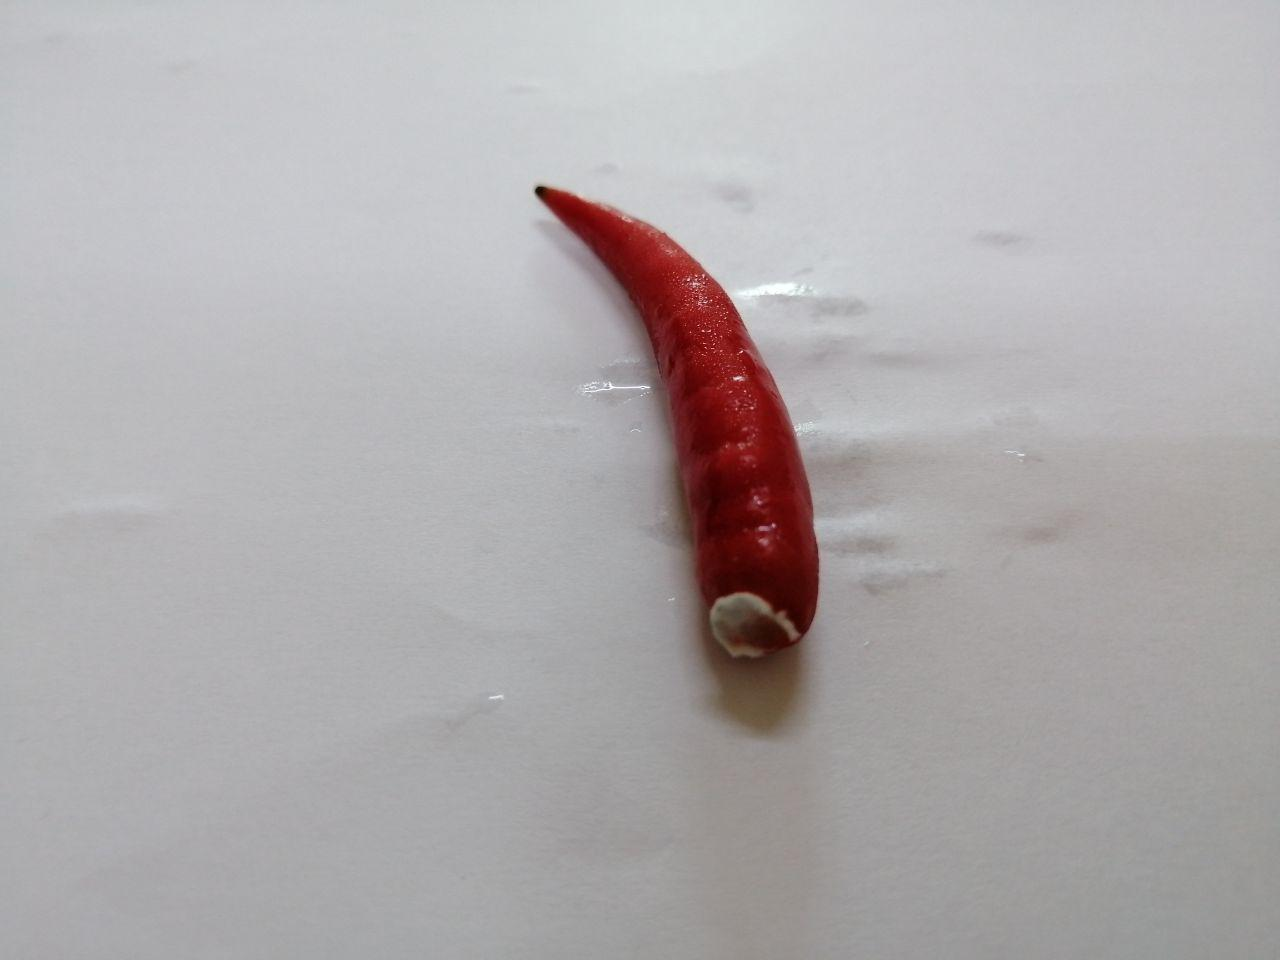lada merah: (502, 179, 846, 708)
